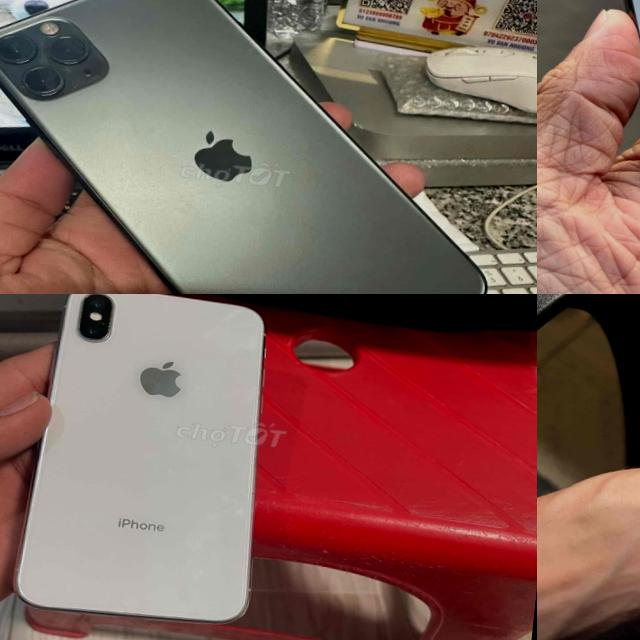gen_11: (0, 0, 523, 294)
gen_15: (537, 0, 640, 294)
gen_x_xs: (5, 294, 286, 637)
